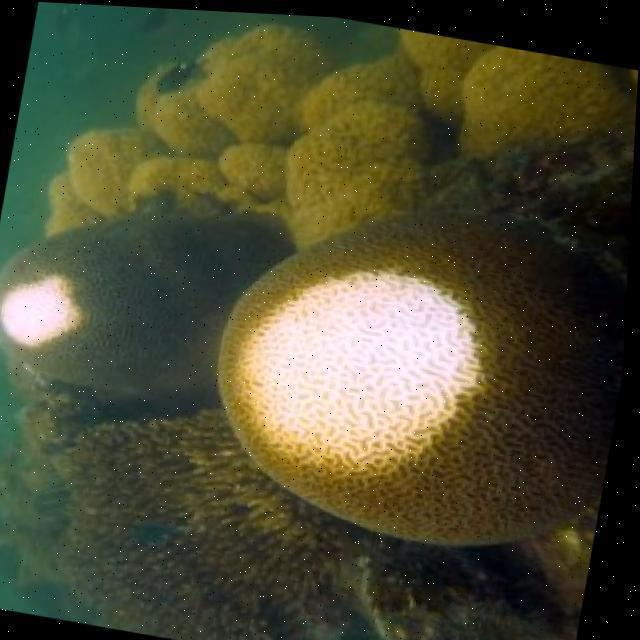Bleached Coral: (238, 273, 479, 467), (2, 276, 77, 346)
